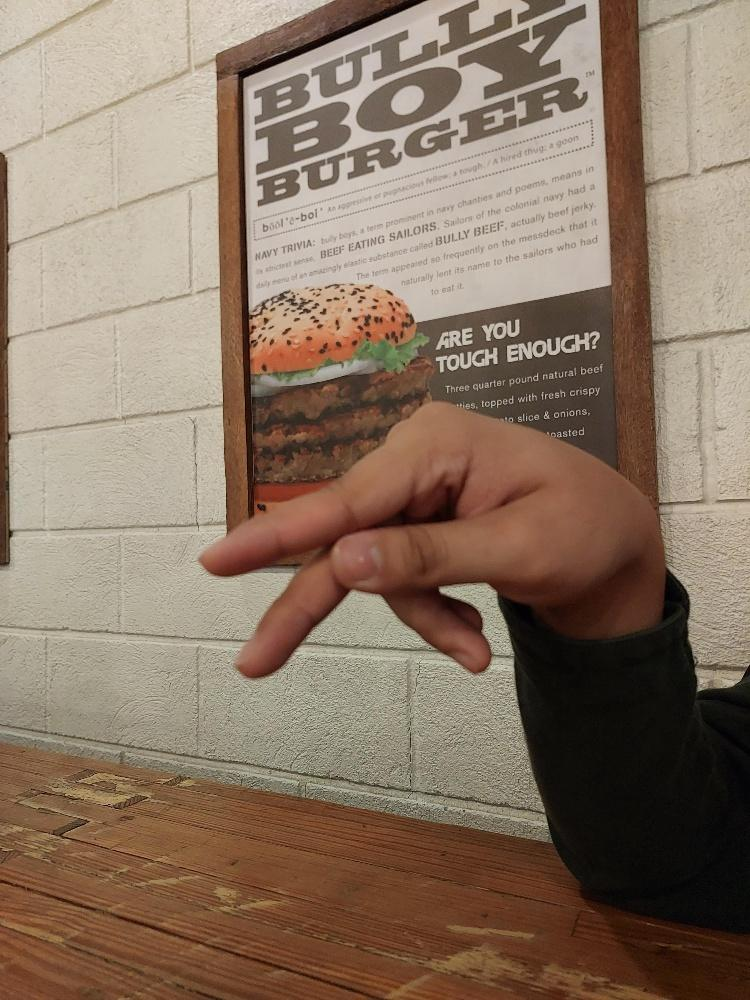p: (196, 398, 636, 679)
